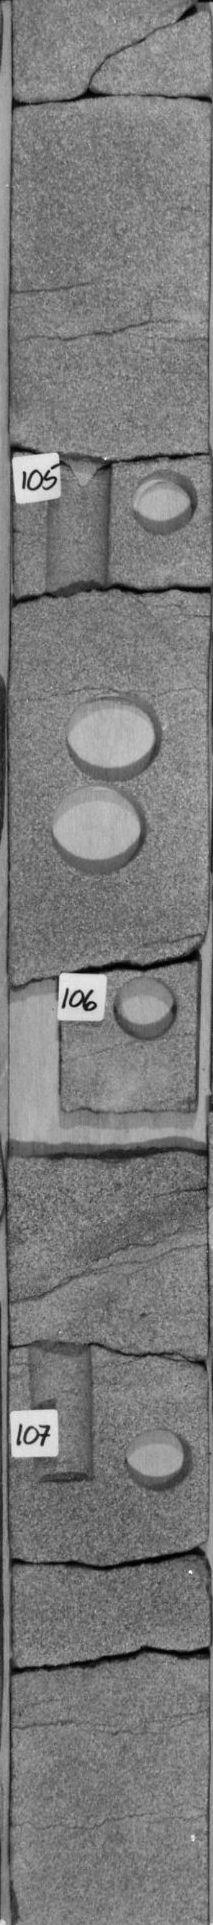hplug: (115, 1417, 199, 1495), (110, 971, 185, 1047), (127, 467, 201, 541)
scal: (57, 683, 179, 781), (46, 781, 153, 877)
vplug: (18, 1331, 105, 1493), (33, 451, 121, 605)
